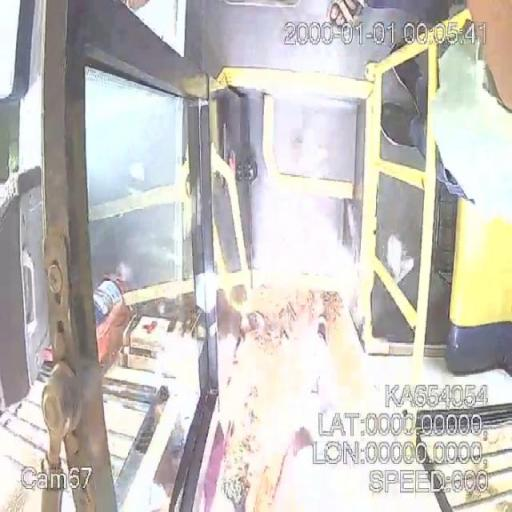persona: (377, 18, 512, 210)
